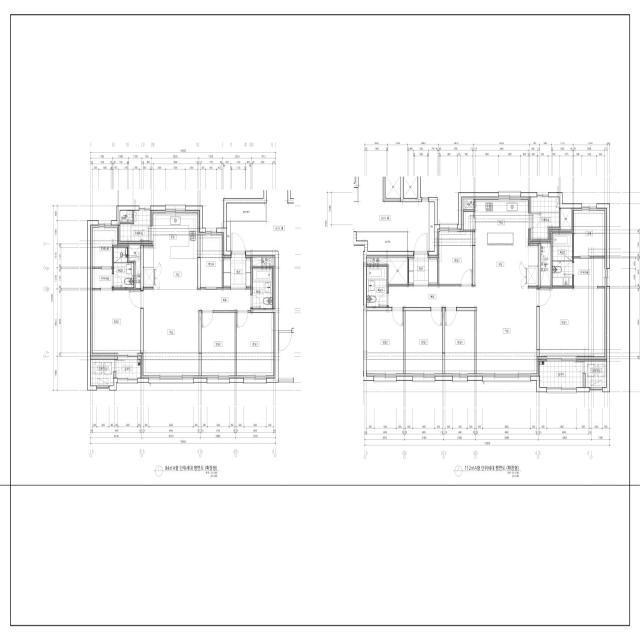space_balconi: (540, 361, 583, 387), (116, 359, 140, 378)
space_bedroom: (539, 288, 606, 359), (91, 290, 141, 356), (237, 313, 275, 378), (405, 311, 442, 376), (367, 311, 404, 376), (202, 313, 235, 378), (445, 311, 475, 376), (438, 229, 472, 284)
space_dressroom: (91, 225, 119, 267), (574, 258, 607, 286), (91, 269, 112, 288)
space_elevator_hall: (231, 190, 294, 329), (354, 177, 429, 251)
space_front: (223, 253, 251, 290), (409, 253, 438, 286)
space_kitchen: (462, 197, 538, 286), (143, 211, 200, 290)
space_living_room: (389, 286, 538, 376), (142, 290, 251, 378)
space_multipurpose_space: (531, 197, 559, 240), (120, 210, 150, 242)
space_other: (574, 208, 606, 256), (200, 233, 223, 287), (367, 256, 407, 284), (356, 232, 408, 251), (227, 203, 266, 221), (129, 243, 141, 288), (541, 242, 551, 286), (385, 177, 401, 198), (403, 177, 417, 198), (561, 208, 573, 231), (429, 202, 434, 251), (252, 256, 275, 266), (462, 197, 474, 209), (120, 211, 132, 222), (227, 222, 230, 251)
space_outdoor_room: (91, 359, 115, 386), (584, 361, 606, 387)
space_toilet: (552, 233, 572, 286), (252, 268, 273, 309), (367, 266, 387, 307), (114, 247, 134, 288)
